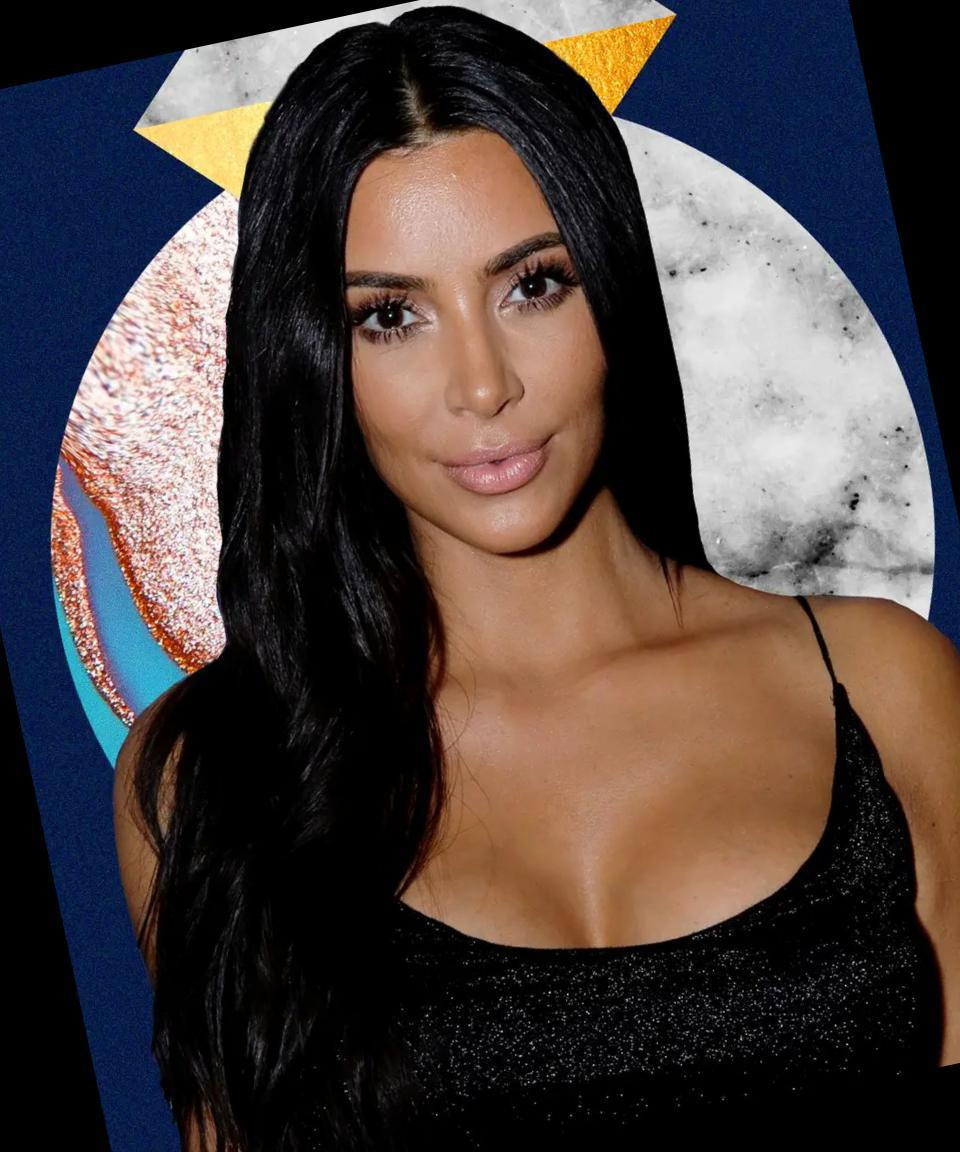Sober: (343, 173, 609, 531)
